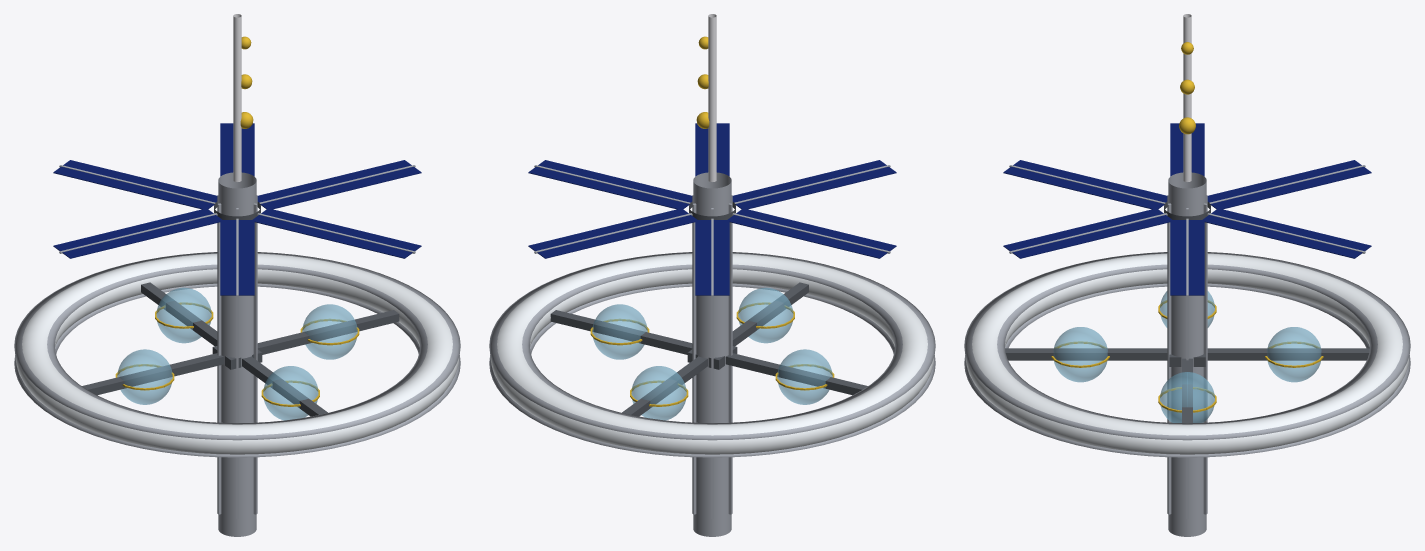
The model's file is GEO_Orbital_Station.obj.
3 views of the same model, side by side, from view 1: azimuth 30°, elevation 25°; view 2: azimuth 150°, elevation 25°; view 3: azimuth 270°, elevation 25° (orthographic).
Parts seen in each view (by area): view 1: Torus_Hab_White, Titanium_Core, Photovoltaic_Blue, Biosphere_Glass, Composite_Slate, Gold_Truss, Thermal_White; view 2: Torus_Hab_White, Titanium_Core, Photovoltaic_Blue, Biosphere_Glass, Composite_Slate, Gold_Truss, Thermal_White; view 3: Torus_Hab_White, Titanium_Core, Photovoltaic_Blue, Biosphere_Glass, Composite_Slate, Gold_Truss, Thermal_White.
Boxes of the visible parts, <box> form: Torus_Hab_White: <box>15,253,459,454</box>; Titanium_Core: <box>14,165,460,536</box>; Photovoltaic_Blue: <box>53,123,421,295</box>; Biosphere_Glass: <box>117,287,357,420</box>; Composite_Slate: <box>82,202,399,416</box>; Gold_Truss: <box>115,36,359,406</box>; Thermal_White: <box>233,14,241,181</box>; Torus_Hab_White: <box>490,253,934,454</box>; Titanium_Core: <box>489,165,935,536</box>; Photovoltaic_Blue: <box>528,123,896,295</box>; Biosphere_Glass: <box>592,287,832,420</box>; Composite_Slate: <box>550,202,867,416</box>; Gold_Truss: <box>590,36,834,406</box>; Thermal_White: <box>708,14,716,181</box>; Torus_Hab_White: <box>965,253,1409,454</box>; Titanium_Core: <box>964,165,1410,536</box>; Photovoltaic_Blue: <box>1003,123,1371,295</box>; Biosphere_Glass: <box>1053,291,1321,422</box>; Composite_Slate: <box>1005,202,1369,422</box>; Gold_Truss: <box>1051,42,1323,412</box>; Thermal_White: <box>1183,14,1191,181</box>.
Bounding box in the file's own units: 209 × 265 × 209.
